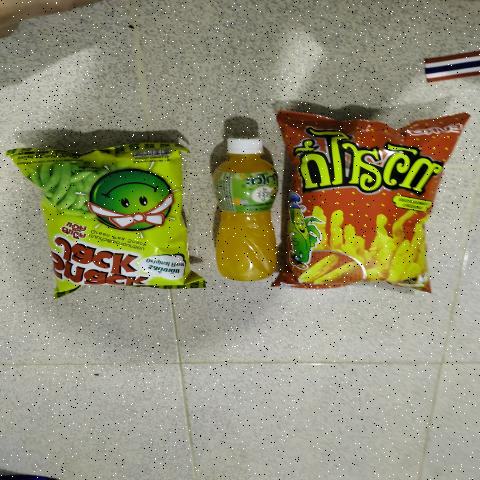snack_jack: (56, 152, 175, 283)
twisco: (293, 120, 446, 288)
